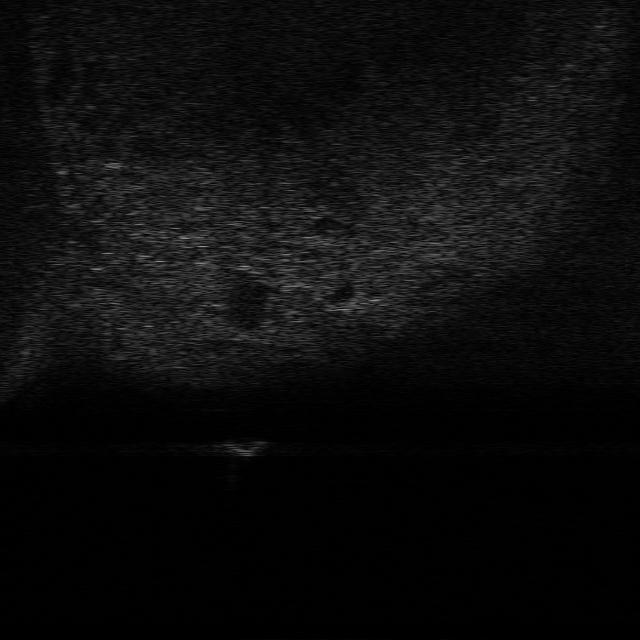cube: (222, 436, 264, 460)
